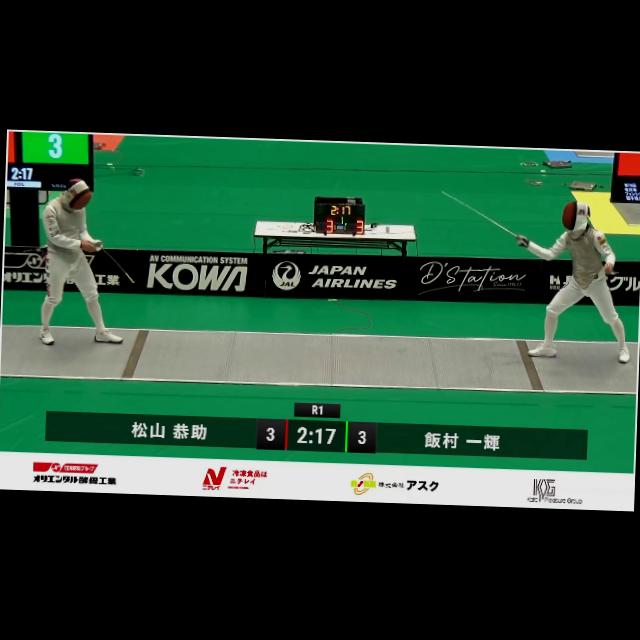blade: (431, 183, 530, 248), (89, 238, 143, 288)
